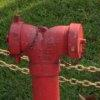a fire hydrant: (8, 21, 72, 100), (26, 30, 63, 100)
